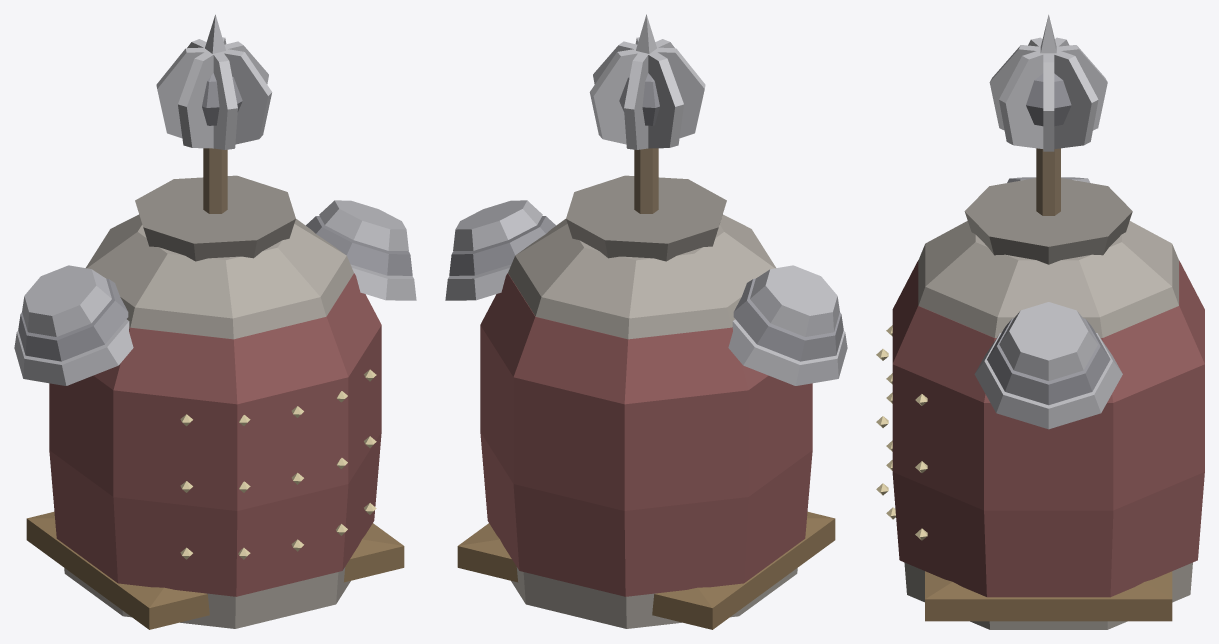
The model's file is bonebreaker.glb.
The picture shows the model from 3 angles, left to right: view 1: azimuth 30°, elevation 25°; view 2: azimuth 150°, elevation 25°; view 3: azimuth 270°, elevation 25°; orthographic projection.
Parts seen in each view (by area): view 1: Torso, Weapon, PauldronL, PauldronR; view 2: Torso, Weapon, PauldronL, PauldronR; view 3: Torso, PauldronR, Weapon.
Boxes of the visible parts, bbox=[...] form: Torso: bbox=[26, 175, 404, 629]; Weapon: bbox=[156, 14, 272, 213]; PauldronL: bbox=[14, 265, 133, 385]; PauldronR: bbox=[306, 200, 416, 300]; Torso: bbox=[457, 175, 835, 629]; Weapon: bbox=[589, 14, 705, 213]; PauldronL: bbox=[728, 265, 847, 385]; PauldronR: bbox=[445, 200, 555, 300]; Torso: bbox=[876, 178, 1204, 629]; PauldronR: bbox=[974, 302, 1122, 429]; Weapon: bbox=[989, 14, 1107, 215].
Size of the model in its own units: 0.9052 by 1.24 by 0.6647.
